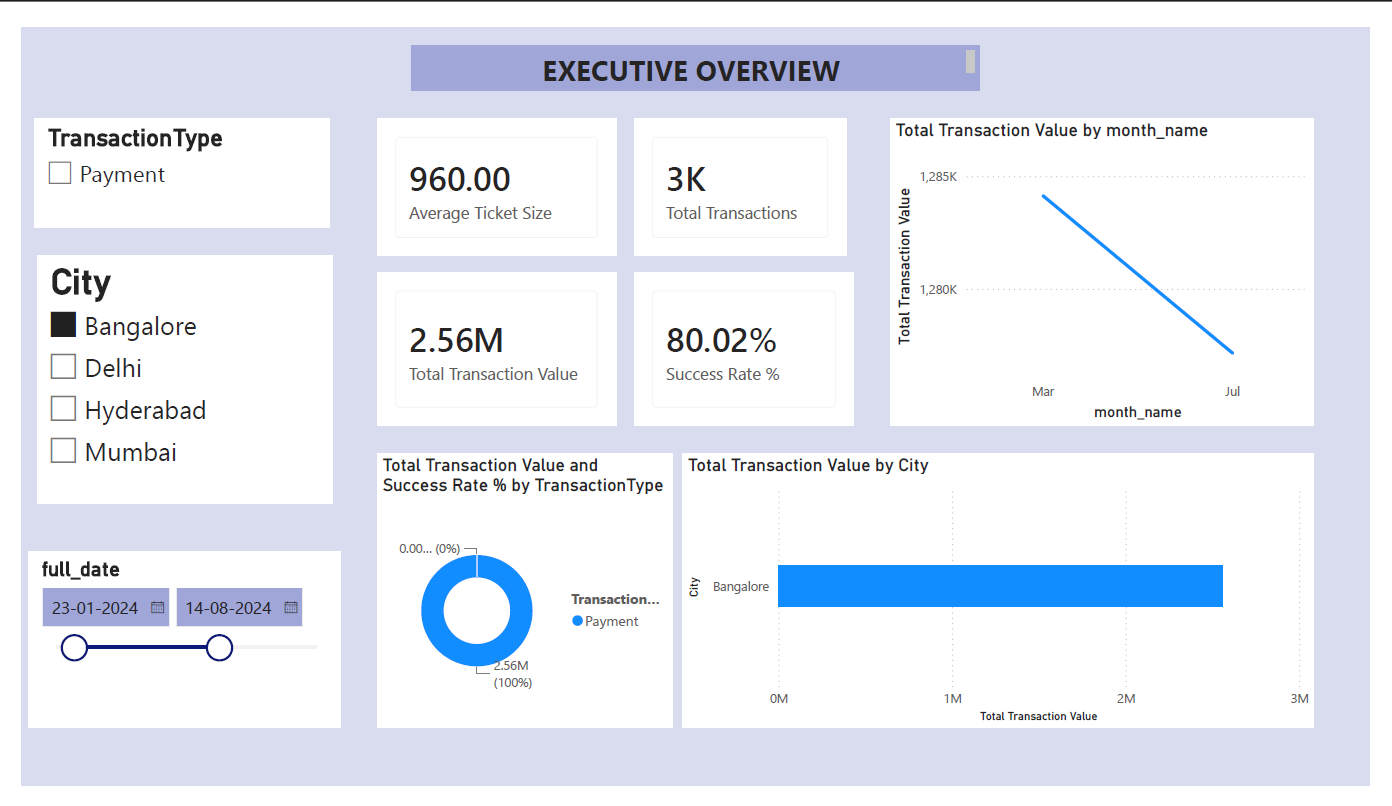

Layout of this report page (visuals, bound fields, positions):
{"tool":"powerbi","page":{"name":"Page 1","canvas":[1280,720],"ordinal":0},"visuals":[{"type":"slicer","fields":{"Values":["fact_transactions.TransactionType"]},"box":[13.3,86.7,280,103.3],"z":0},{"type":"slicer","fields":{"Values":["dim_date.full_date"]},"box":[7.3,497.7,295.9,167.5],"z":1000},{"type":"slicer","fields":{"Values":["fact_transactions.City"]},"box":[15,216.7,280,235],"z":2000},{"type":"cardVisual","fields":{"Data":["fact_transactions.Total Transaction Value"]},"box":[338.3,233.3,226.7,145],"z":3000},{"type":"cardVisual","fields":{"Data":["fact_transactions.Average Ticket Size"]},"box":[338.3,86.7,226.7,130],"z":4000},{"type":"cardVisual","fields":{"Data":["fact_transactions.Total Transactions"]},"box":[581.7,86.7,201.7,130],"z":5000},{"type":"donutChart","fields":{"Y":["fact_transactions.Total Transaction Value","fact_transactions.Success Rate %"],"Category":["fact_transactions.TransactionType"]},"box":[337.5,405,280,260],"z":7000},{"type":"lineChart","fields":{"Category":["dim_date.month_name"],"Y":["fact_transactions.Total Transaction Value"]},"box":[825,86.7,401.7,291.7],"z":8000},{"type":"clusteredBarChart","fields":{"Category":["fact_transactions.City"],"Y":["fact_transactions.Total Transaction Value"]},"box":[628.3,405,598.3,260],"z":9000},{"type":"cardVisual","fields":{"Data":["fact_transactions.Success Rate %"]},"box":[581.7,233.3,208.3,145],"z":10000},{"type":"textbox","box":[370,16.7,540,43.3],"z":11000}]}

Visuals, with their boxes in screenshot pixels (x1, y1, x2, y2), scaled from the page's 1280x720 canvas onto the 1392x806 screenshot:
slicer - fact_transactions.TransactionType: pyautogui.locateOnScreen(14, 97, 319, 213)
slicer - dim_date.full_date: pyautogui.locateOnScreen(8, 557, 330, 745)
slicer - fact_transactions.City: pyautogui.locateOnScreen(16, 243, 321, 506)
cardVisual - fact_transactions.Total Transaction Value: pyautogui.locateOnScreen(368, 261, 614, 423)
cardVisual - fact_transactions.Average Ticket Size: pyautogui.locateOnScreen(368, 97, 614, 243)
cardVisual - fact_transactions.Total Transactions: pyautogui.locateOnScreen(633, 97, 852, 243)
donutChart - fact_transactions.Total Transaction Value x fact_transactions.Success Rate %: pyautogui.locateOnScreen(367, 453, 672, 744)
lineChart - dim_date.month_name x fact_transactions.Total Transaction Value: pyautogui.locateOnScreen(897, 97, 1334, 424)
clusteredBarChart - fact_transactions.City x fact_transactions.Total Transaction Value: pyautogui.locateOnScreen(683, 453, 1334, 744)
cardVisual - fact_transactions.Success Rate %: pyautogui.locateOnScreen(633, 261, 859, 423)
textbox: pyautogui.locateOnScreen(402, 19, 990, 67)
